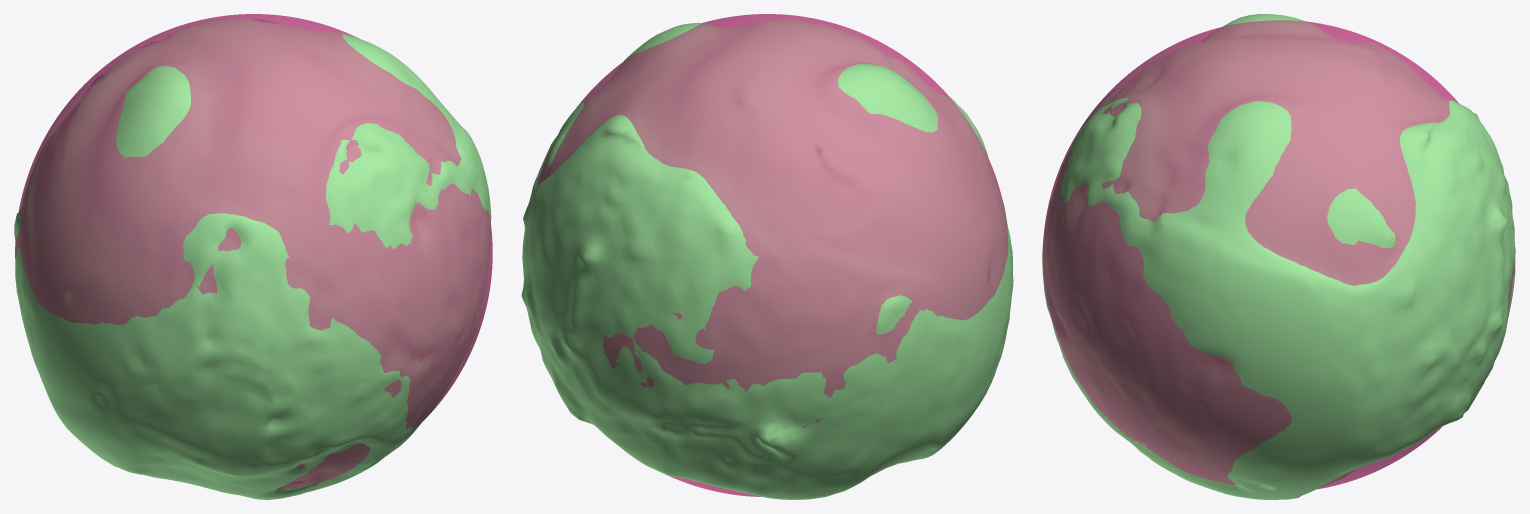
File: Planet1.glb
The picture shows the model from 3 angles, left to right: view 1: azimuth 30°, elevation 25°; view 2: azimuth 150°, elevation 25°; view 3: azimuth 270°, elevation 25°; orthographic projection. The views are drawn at different scales.
Parts seen in each view (by area): view 1: Cube, Cube.001; view 2: Cube, Cube.001; view 3: Cube, Cube.001.
Boxes of the visible parts, x1=… form: Cube: x1=14, y1=18, x2=491, y2=499; Cube.001: x1=15, y1=14, x2=492, y2=488; Cube: x1=521, y1=19, x2=1013, y2=499; Cube.001: x1=536, y1=14, x2=1008, y2=496; Cube: x1=1042, y1=14, x2=1515, y2=499; Cube.001: x1=1042, y1=20, x2=1515, y2=489.
Bounding box in the file's own units: 10.09 × 10.09 × 10.02.
